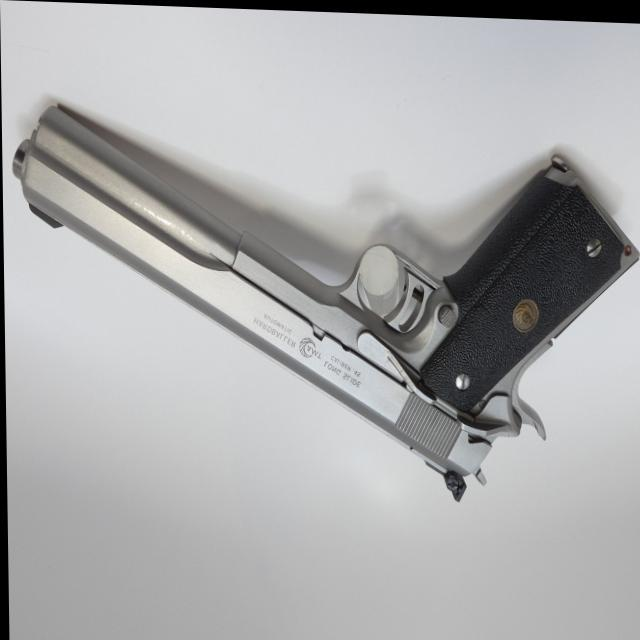handgun: (10, 101, 640, 513)
